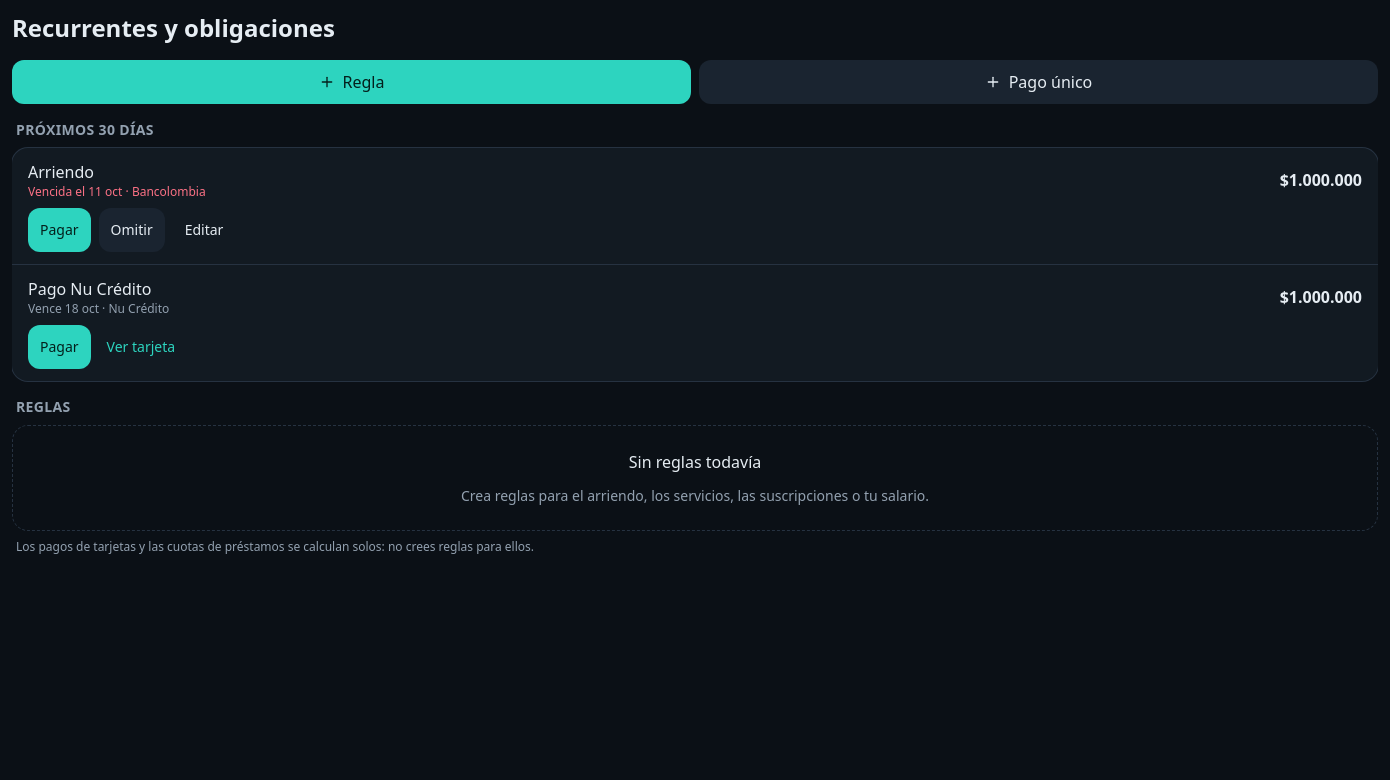
RecurringPage (spec 8.11) › refreshes the list and warns when skipping hits a 409
Step 1. Click the button with aria-label "Omitir Arriendo" → click(132, 230), box [99,208,165,252]
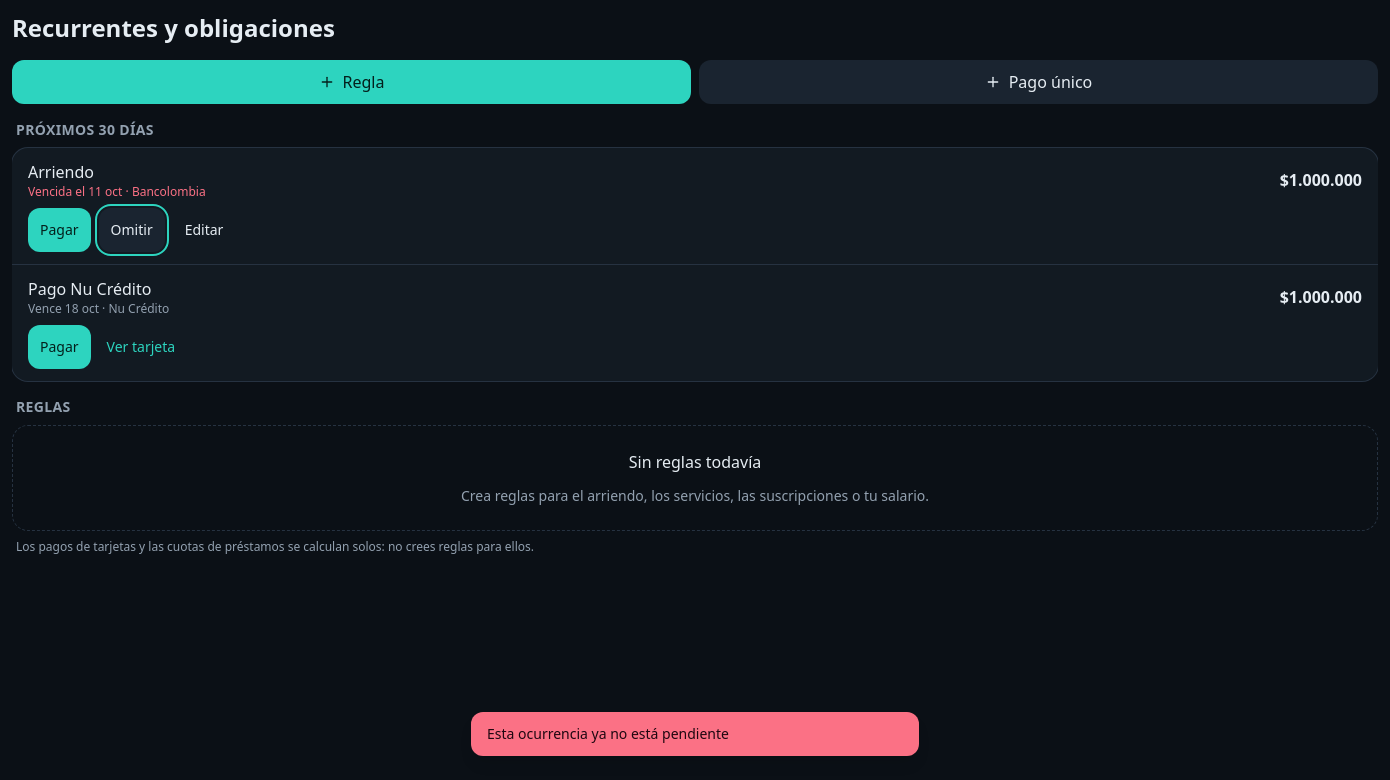
Check: the message reads "Esta ocurrencia ya no está pendiente", box [487,724,729,743]
